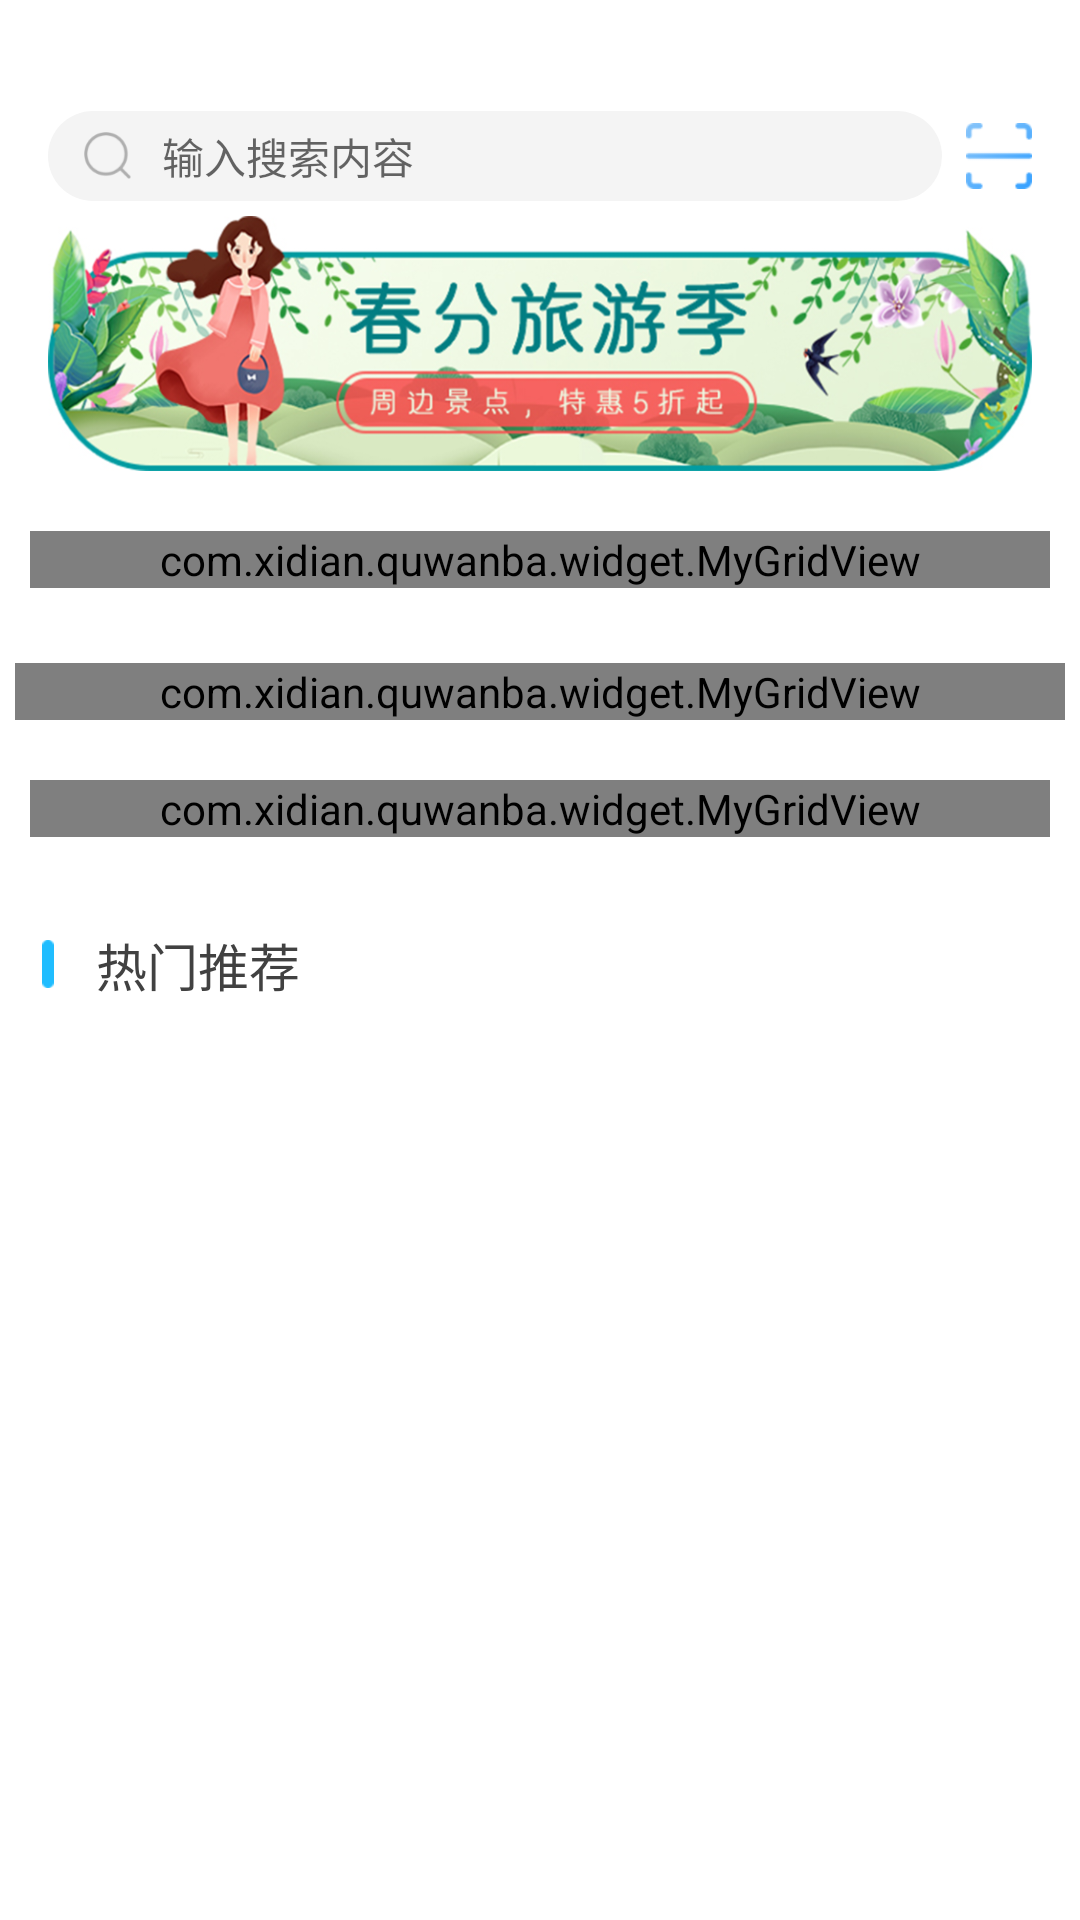

Named icons in this screenshot (1080x1920) and their centers, point (x, y):
scan: point (999, 156)
search tip: point (107, 155)
